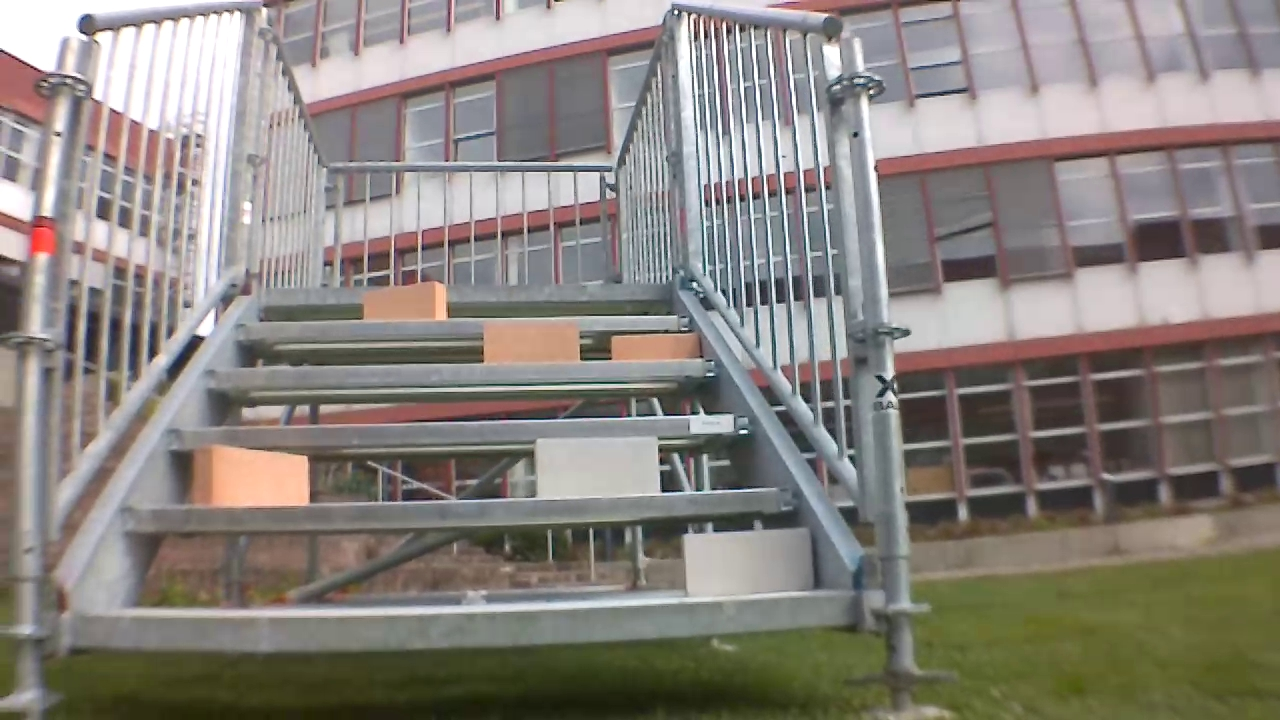brick: (683, 529, 812, 594), (535, 437, 658, 496), (193, 445, 309, 507), (483, 322, 578, 364), (364, 283, 447, 322), (612, 332, 698, 359)
edge: (63, 591, 860, 649), (121, 488, 805, 531), (164, 415, 752, 444), (208, 358, 717, 383), (233, 316, 691, 336), (270, 283, 677, 302)
stairs: (4, 3, 958, 717)
steps: (54, 275, 864, 657)
